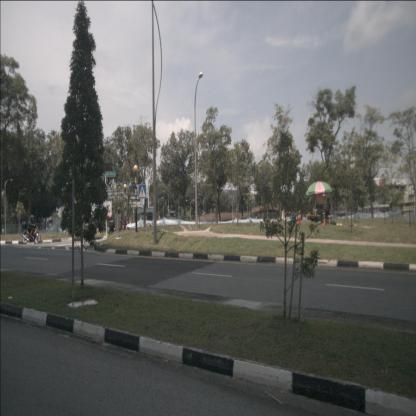movable_object-trafficcone: (322, 213, 326, 226), (297, 214, 300, 223)
vehicle-bicycle: (23, 215, 41, 244)
vehicle-motorcycle: (107, 208, 130, 238)
